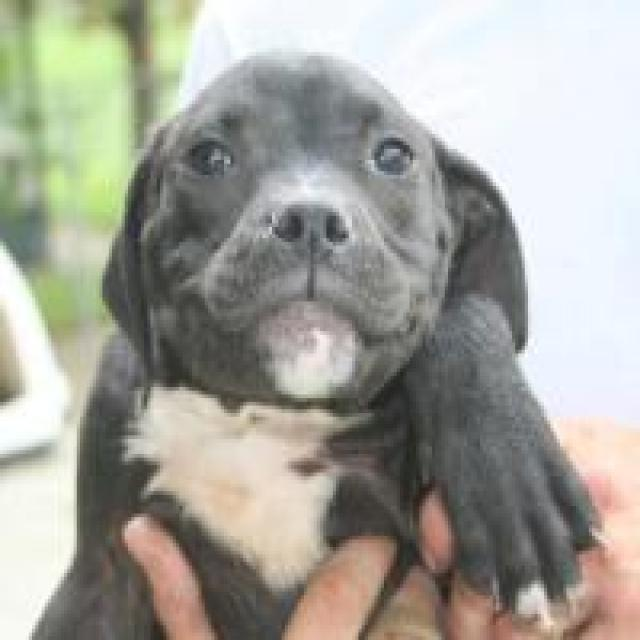Dogs: (16, 45, 608, 636)
